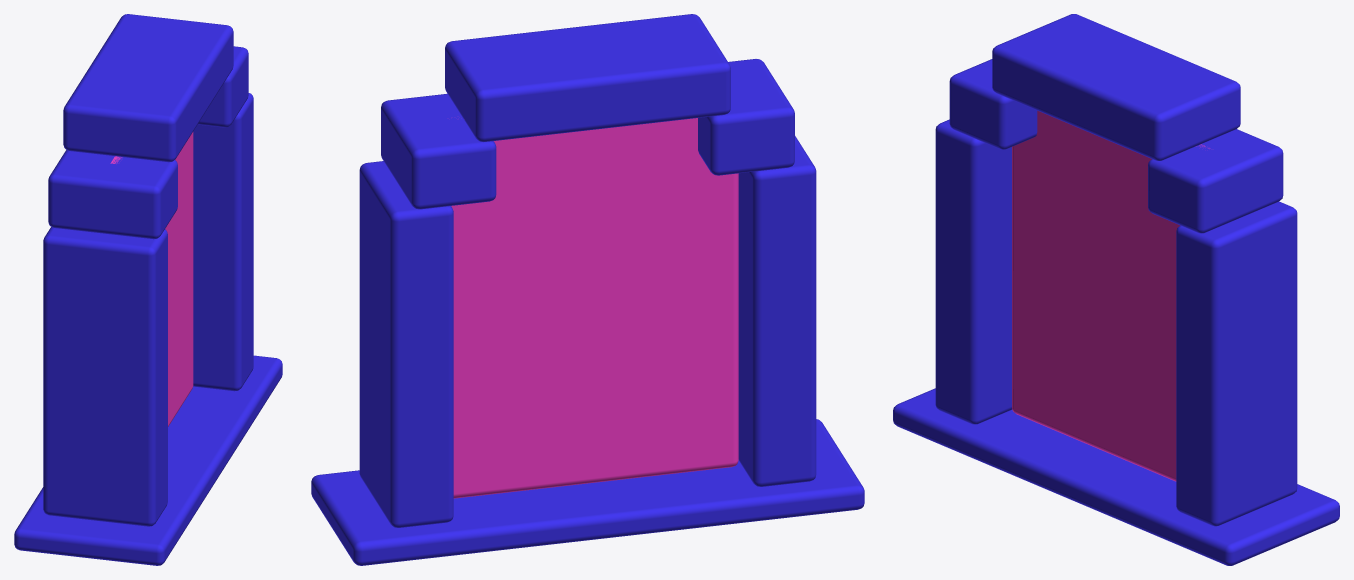
File: Portal.fbx
The picture shows the model from 3 angles, left to right: view 1: azimuth 30°, elevation 25°; view 2: azimuth 150°, elevation 25°; view 3: azimuth 270°, elevation 25°; orthographic projection. The views are drawn at different scales.
Visible parts, largest first — view 1: PillarL, ArchTop, PillarR, Base, ArchL, Inner, ArchR; view 2: Inner, PillarR, Base, ArchTop, PillarL, ArchR, ArchL; view 3: Inner, PillarR, ArchTop, Base, PillarL, ArchR, ArchL.
Boxes of the visible parts, left/top/right/bottom form: PillarL: left=43, top=227, right=167, bottom=526; ArchTop: left=63, top=14, right=233, bottom=162; PillarR: left=193, top=93, right=253, bottom=391; Base: left=14, top=355, right=282, bottom=565; ArchL: left=48, top=150, right=177, bottom=239; Inner: left=110, top=132, right=193, bottom=426; ArchR: left=198, top=46, right=248, bottom=127; Inner: left=451, top=118, right=738, bottom=498; PillarR: left=359, top=161, right=453, bottom=527; Base: left=311, top=419, right=864, bottom=565; ArchTop: left=445, top=14, right=730, bottom=141; PillarL: left=738, top=136, right=816, bottom=486; ArchR: left=381, top=93, right=496, bottom=209; ArchL: left=698, top=59, right=794, bottom=175; Inner: left=1012, top=110, right=1210, bottom=481; PillarR: left=1176, top=201, right=1297, bottom=526; ArchTop: left=992, top=14, right=1240, bottom=160; Base: left=893, top=388, right=1339, bottom=565; PillarL: left=935, top=119, right=1012, bottom=424; ArchR: left=1148, top=129, right=1283, bottom=233; ArchL: left=949, top=59, right=1037, bottom=149.
Bounding box in the file's own units: 1115 × 1130 × 1115.
